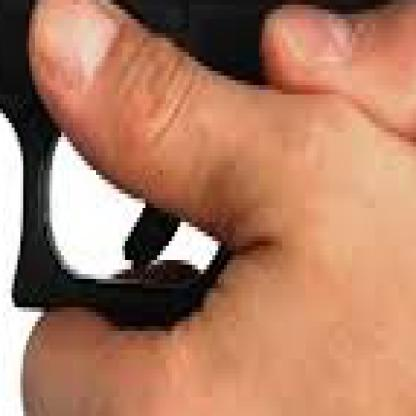gun: (0, 0, 413, 336)
